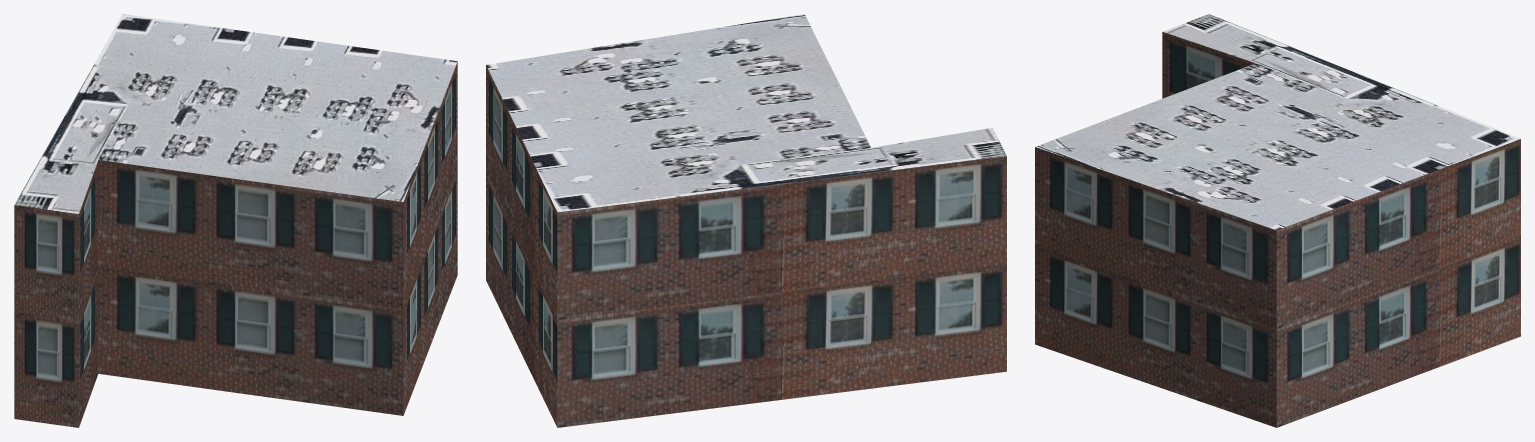
Rendered from ResTex__1380.fbx.
The picture shows the model from 3 angles, left to right: view 1: azimuth 30°, elevation 25°; view 2: azimuth 150°, elevation 25°; view 3: azimuth 270°, elevation 25°; orthographic projection. The views are drawn at different scales.
Visible parts, largest first — view 1: CityEngineMaterial_14_m, CityEngineMaterial_8_m; view 2: CityEngineMaterial_14_m, CityEngineMaterial_8_m; view 3: CityEngineMaterial_14_m, CityEngineMaterial_8_m.
Boxes of the visible parts, <box> form: CityEngineMaterial_14_m: <box>14,62,457,427</box>; CityEngineMaterial_8_m: <box>14,14,457,213</box>; CityEngineMaterial_14_m: <box>486,65,1006,427</box>; CityEngineMaterial_8_m: <box>486,14,1006,212</box>; CityEngineMaterial_14_m: <box>1035,32,1520,427</box>; CityEngineMaterial_8_m: <box>1035,14,1520,230</box>.
Bounding box in the file's own units: 14.09 × 6 × 13.37.
Materials: 2 (2 with a texture image).
